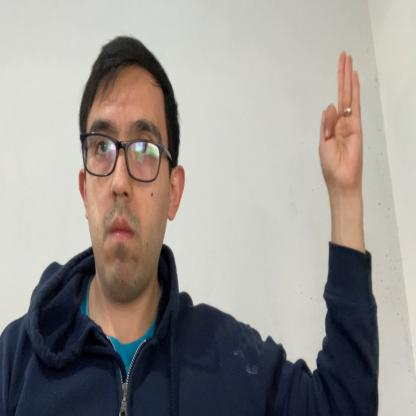F: (319, 48, 364, 192)
